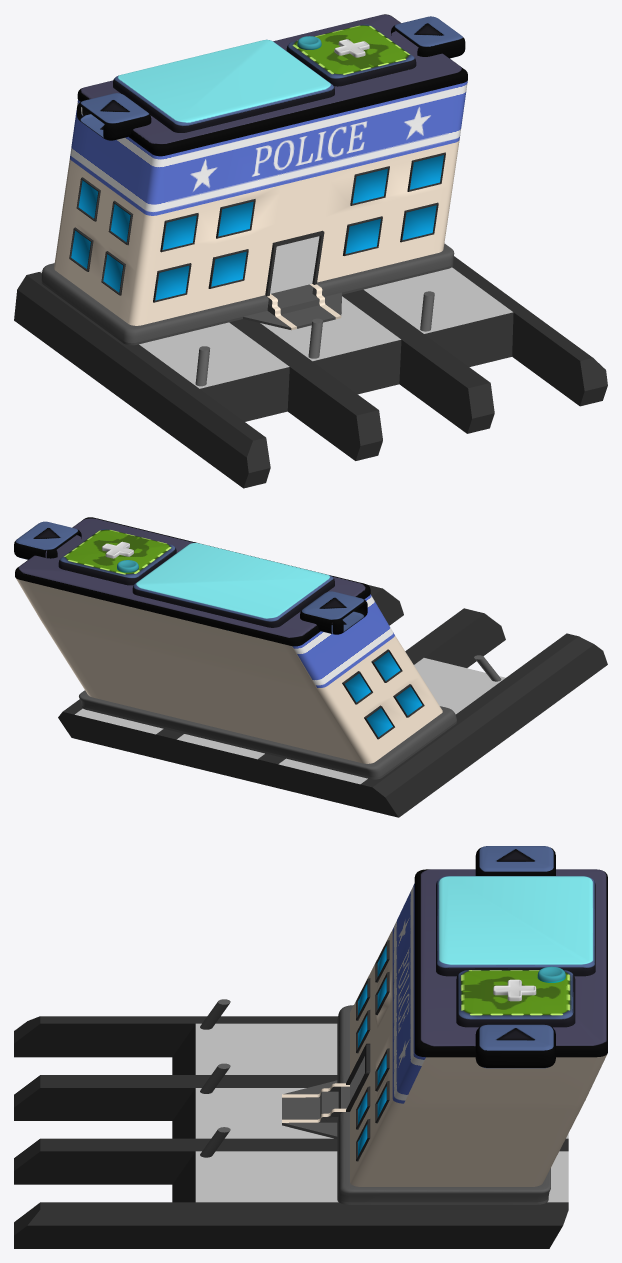
File: PoliceStationWaterBuilding+Hud.fbx
3 renders of one model, top to bottom at view 1: azimuth 30°, elevation 25°; view 2: azimuth 150°, elevation 25°; view 3: azimuth 270°, elevation 25°, orthographic. The views are drawn at different scales.
Parts seen in each view (by area): view 1: InterrogationBuilding, Mesh, ProcessIcon, MainPlane, ManagerIcon, Arrow1, Arrow2; view 2: InterrogationBuilding, Mesh, ProcessIcon, MainPlane, ManagerIcon, Arrow1, Arrow2; view 3: Mesh, InterrogationBuilding, ProcessIcon, MainPlane, ManagerIcon, Arrow2, Arrow1, Plus.
Part boxes in pixels (x1=…): InterrogationBuilding: x1=41, y1=80, x2=467, y2=345; Mesh: x1=14, y1=256, x2=607, y2=488; ProcessIcon: x1=113, y1=39, x2=334, y2=132; MainPlane: x1=77, y1=14, x2=467, y2=156; ManagerIcon: x1=286, y1=24, x2=416, y2=86; Arrow1: x1=77, y1=93, x2=151, y2=140; Arrow2: x1=391, y1=16, x2=465, y2=58; InterrogationBuilding: x1=16, y1=578, x2=456, y2=779; Mesh: x1=58, y1=585, x2=607, y2=817; ProcessIcon: x1=132, y1=543, x2=334, y2=627; MainPlane: x1=15, y1=517, x2=370, y2=646; ManagerIcon: x1=58, y1=529, x2=176, y2=585; Arrow1: x1=300, y1=591, x2=367, y2=634; Arrow2: x1=14, y1=521, x2=81, y2=559; Mesh: x1=14, y1=999, x2=568, y2=1248; InterrogationBuilding: x1=282, y1=883, x2=606, y2=1204; ProcessIcon: x1=436, y1=876, x2=595, y2=976; MainPlane: x1=414, y1=869, x2=607, y2=1057; ManagerIcon: x1=456, y1=970, x2=575, y2=1027; Arrow2: x1=475, y1=1024, x2=555, y2=1068; Arrow1: x1=475, y1=846, x2=555, y2=875; Plus: x1=493, y1=979, x2=536, y2=1001.
Bounding box in the file's own units: 757 × 789 × 354.
